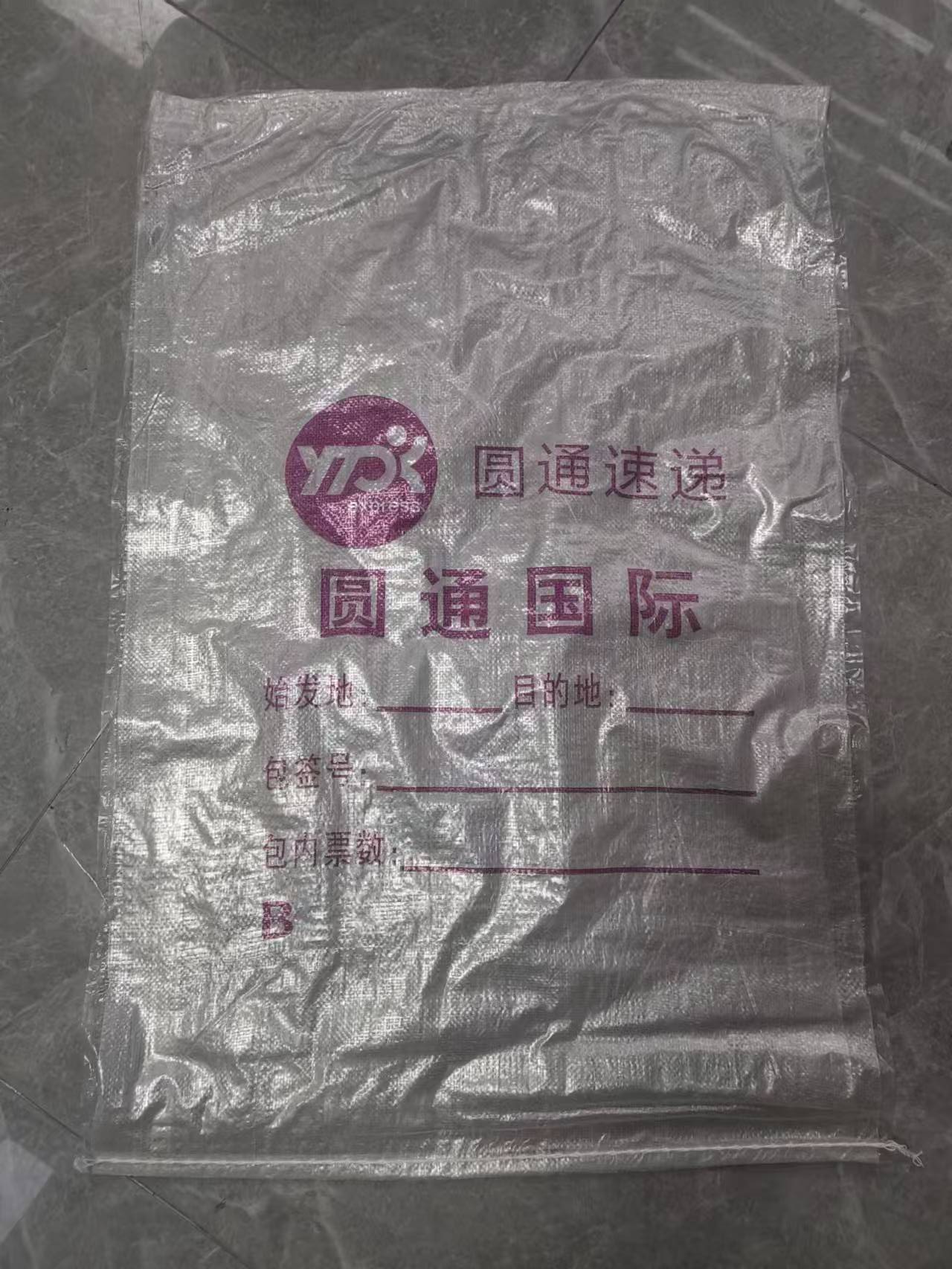塑料袋: (70, 204, 672, 1269)
